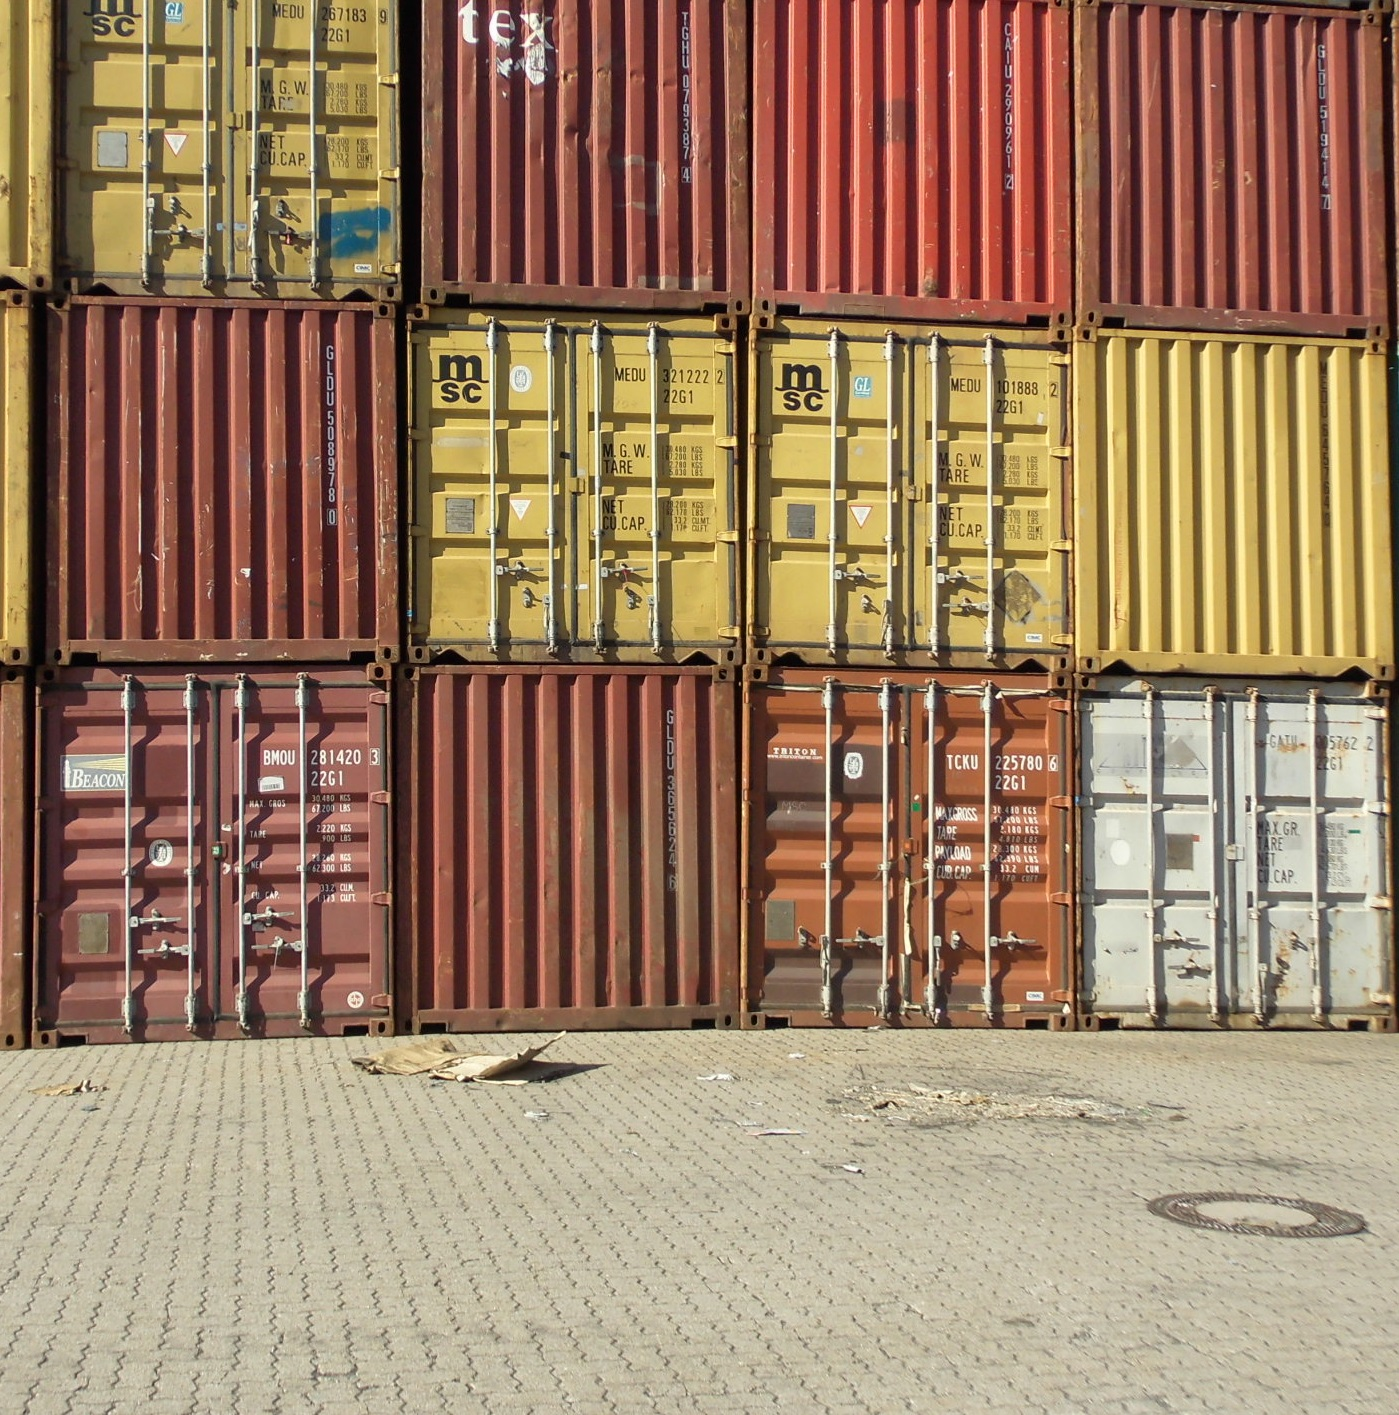container_door: (35, 669, 393, 1042), (409, 310, 740, 660), (746, 318, 1077, 668), (746, 673, 1077, 1023), (1068, 675, 1399, 1025), (50, 1, 405, 288)
container_no_door: (400, 663, 744, 1034), (45, 288, 389, 660), (1090, 326, 1399, 666), (1076, 1, 1385, 340), (748, 1, 1070, 315), (413, 1, 751, 295)
